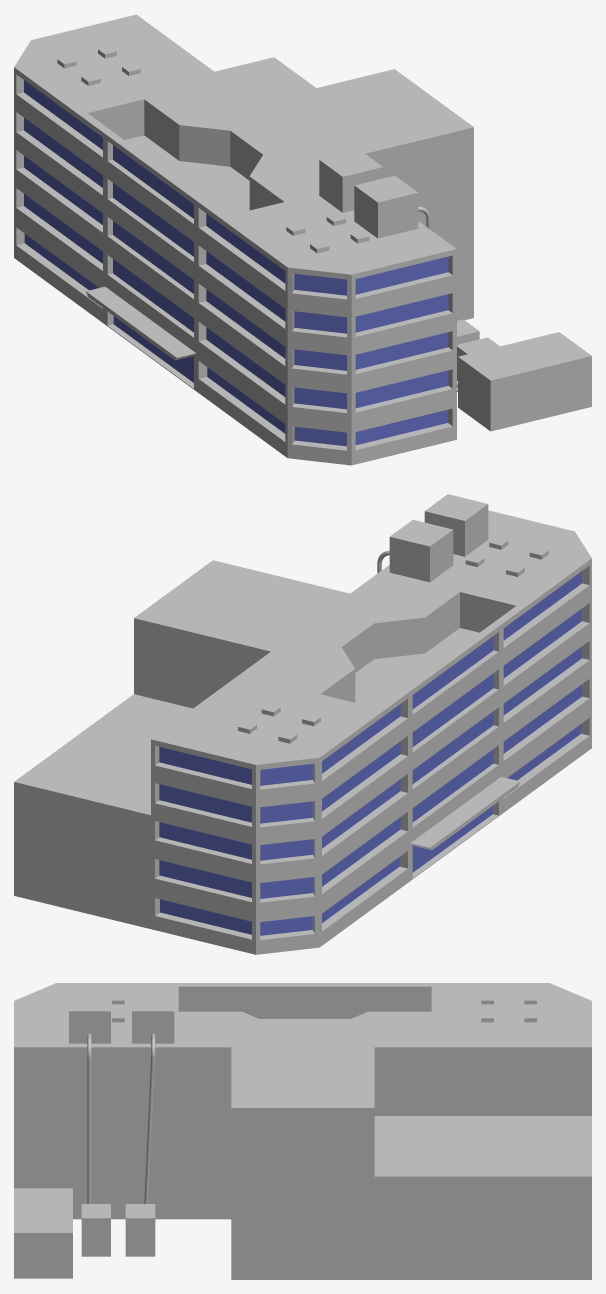
File: shapan.gltf
3 views of the same model, one above another, from view 1: azimuth 30°, elevation 25°; view 2: azimuth 150°, elevation 25°; view 3: azimuth 270°, elevation 25° (orthographic). The views are drawn at different scales.
Parts seen in each view (by area): view 1: 沙盘, 4f, 5f, 2f, 3f, 1f; view 2: 沙盘, 4f, 5f, 2f, 3f, 1f; view 3: 沙盘.
Boxes of the visible parts, left/top/right/bottom form: 沙盘: left=14, top=14, right=591, bottom=465; 4f: left=24, top=118, right=448, bottom=333; 5f: left=24, top=80, right=448, bottom=295; 2f: left=24, top=194, right=448, bottom=409; 3f: left=24, top=156, right=448, bottom=370; 1f: left=24, top=234, right=447, bottom=446; 沙盘: left=14, top=494, right=591, bottom=954; 4f: left=159, top=609, right=581, bottom=823; 5f: left=159, top=571, right=581, bottom=785; 2f: left=159, top=684, right=582, bottom=898; 3f: left=159, top=646, right=581, bottom=860; 1f: left=160, top=724, right=581, bottom=935; 沙盘: left=14, top=983, right=591, bottom=1279.
Bounding box in the file's own units: 9.43 × 6.75 × 17.28.
